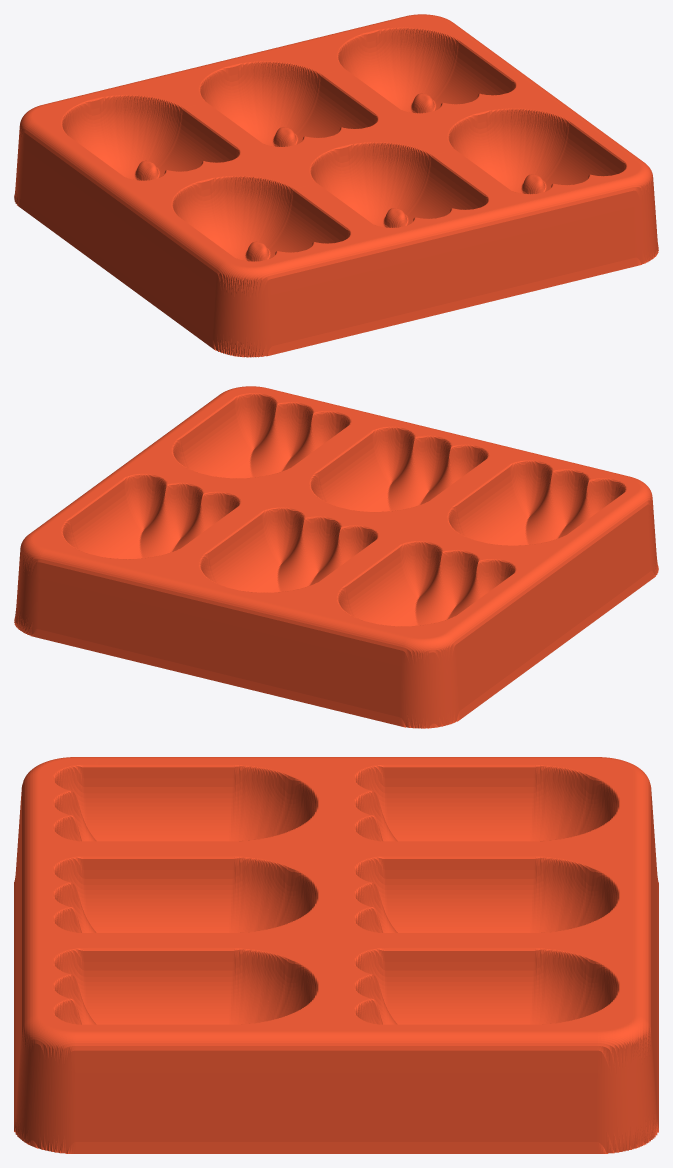
File: mold.glb
3 views of the same model, one above another, from view 1: azimuth 30°, elevation 25°; view 2: azimuth 150°, elevation 25°; view 3: azimuth 270°, elevation 25° (orthographic). The views are drawn at different scales.
Visible parts, largest first — view 1: geometry_0; view 2: geometry_0; view 3: geometry_0.
Boxes of the visible parts, left/top/right/bottom form: geometry_0: left=14, top=14, right=658, bottom=357; geometry_0: left=14, top=386, right=658, bottom=728; geometry_0: left=14, top=757, right=658, bottom=1153.
Size of the model in its own units: 0.1019 by 0.0182 by 0.0947.
